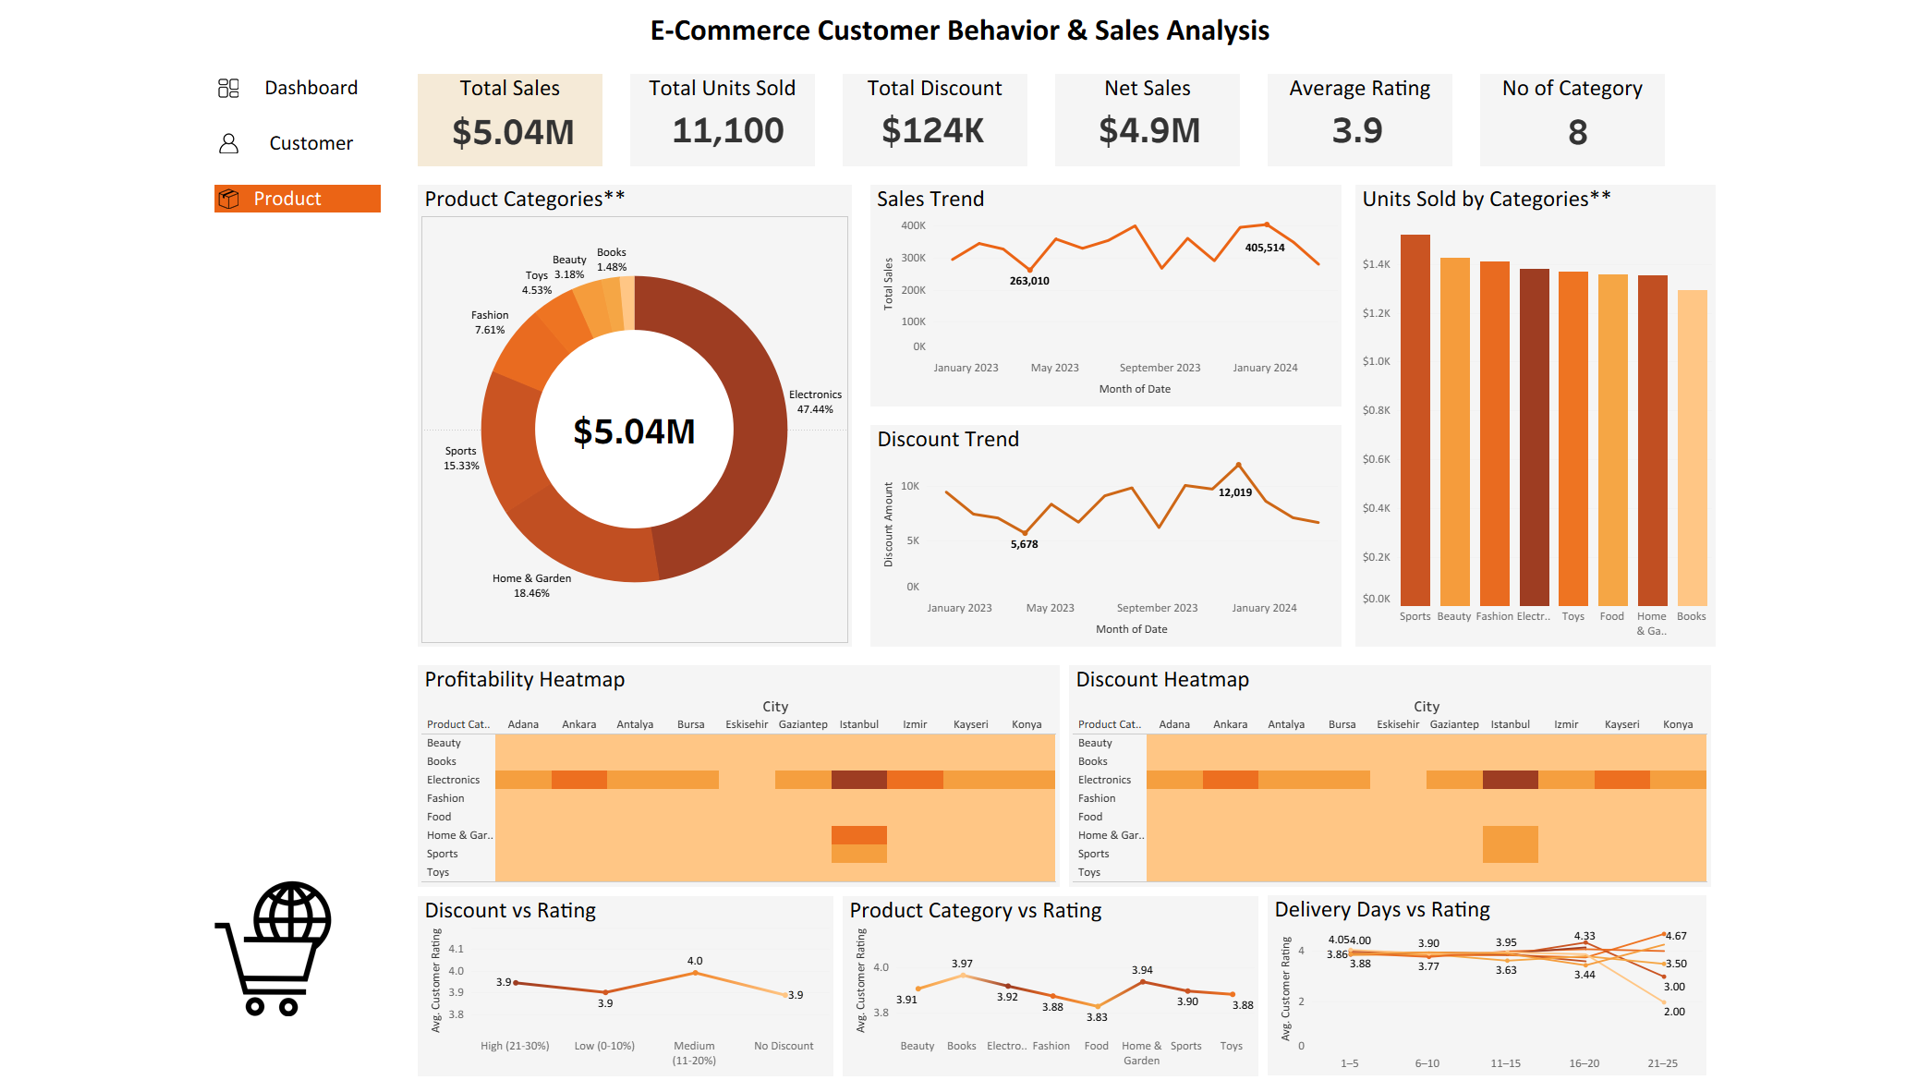

The page's visual inventory and layout, read from the dashboard file:
{"tool":"tableau","page":{"name":"Product","canvas":[1654,1169],"ordinal":2},"visuals":[{"type":"title","box":[8,8,1638,49]},{"type":"image","param":"Image/1.png","box":[20,80,30,30]},{"type":"dashboard-object","box":[50,80,150,30]},{"type":"text","box":[240,80,200,30]},{"type":"text","box":[470,80,200,30]},{"type":"text","box":[700,80,200,30]},{"type":"text","box":[930,80,200,30]},{"type":"text","box":[1160,80,200,30]},{"type":"text","box":[1390,80,200,30]},{"type":"worksheet","title":"Total Sales","mark":"Automatic","box":[240,110,200,62]},{"type":"worksheet","title":"Total Units Sold","mark":"Automatic","box":[470,110,200,58]},{"type":"worksheet","title":"Total Discount","mark":"Automatic","box":[700,110,200,58]},{"type":"worksheet","title":"Net Sales","mark":"Automatic","box":[930,110,200,58]},{"type":"worksheet","title":"Average Rating","mark":"Automatic","box":[1160,110,200,58]},{"type":"worksheet","title":"No of Categories","mark":"Automatic","box":[1390,110,200,62]},{"type":"image","param":"Image/3.png","box":[20,140,30,30]},{"type":"dashboard-object","box":[50,140,150,30]},{"type":"image","param":"Image/2.png","box":[20,200,30,30]},{"type":"text","box":[50,200,120,30]},{"type":"text","box":[240,200,470,30]},{"type":"text","box":[730,200,510,30]},{"type":"text","box":[1255,200,390,30]},{"type":"worksheet","title":"Top Categories","mark":"Pie","rows":["Calculation_1930636867859955715","Calculation_1930636867859955715"],"box":[240,230,470,470]},{"type":"worksheet","title":"Sales Trend","mark":"Automatic","rows":["Calculation_1930636867845853185"],"cols":["Date"],"box":[730,230,510,210]},{"type":"worksheet","title":"Units Sold by Categories","mark":"Automatic","rows":["Quantity"],"cols":["Product_Category"],"box":[1255,230,390,470]},{"type":"text","box":[730,460,510,30]},{"type":"worksheet","title":"Discount Trend","mark":"Automatic","rows":["Discount_Amount"],"cols":["Date"],"box":[730,490,510,210]},{"type":"text","box":[240,720,695,30]},{"type":"text","box":[945,720,695,30]},{"type":"worksheet","title":"Profitability Heatmap","mark":"Automatic","rows":["Product_Category"],"cols":["City"],"box":[240,750,695,210]},{"type":"worksheet","title":"Discount Heatmap","mark":"Automatic","rows":["Product_Category"],"cols":["City"],"box":[945,750,695,209]},{"type":"image","param":"Image/4.png","box":[20,950,150,150]},{"type":"text","box":[1160,969,475,30]},{"type":"text","box":[240,970,450,30]},{"type":"text","box":[700,970,450,30]},{"type":"worksheet","title":"Customer Ratings vs Delivery Time","mark":"Line","rows":["Customer_Rating"],"cols":["Calculation_649362786521202688"],"box":[1160,999,475,165]},{"type":"worksheet","title":"Discount vs Customer Rating","mark":"Line","rows":["Customer_Rating"],"cols":["Calculation_789537312201973762"],"box":[240,1000,450,165]},{"type":"worksheet","title":"Product Category vs Customer Rating","mark":"Line","rows":["Customer_Rating"],"cols":["Product_Category"],"box":[700,1000,450,165]}]}

Visuals, with their boxes on the page's 1654x1169 design canvas (x1, y1, x2, y2). These are canvas units, not pixel positions in the 1919x1079 screenshot, which may show the page scaled, cropped or inside an application window:
title: bbox(8, 8, 1646, 57)
image: bbox(20, 80, 50, 110)
dashboard-object: bbox(50, 80, 200, 110)
text: bbox(240, 80, 440, 110)
text: bbox(470, 80, 670, 110)
text: bbox(700, 80, 900, 110)
text: bbox(930, 80, 1130, 110)
text: bbox(1160, 80, 1360, 110)
text: bbox(1390, 80, 1590, 110)
"Total Sales" worksheet: bbox(240, 110, 440, 172)
"Total Units Sold" worksheet: bbox(470, 110, 670, 168)
"Total Discount" worksheet: bbox(700, 110, 900, 168)
"Net Sales" worksheet: bbox(930, 110, 1130, 168)
"Average Rating" worksheet: bbox(1160, 110, 1360, 168)
"No of Categories" worksheet: bbox(1390, 110, 1590, 172)
image: bbox(20, 140, 50, 170)
dashboard-object: bbox(50, 140, 200, 170)
image: bbox(20, 200, 50, 230)
text: bbox(50, 200, 170, 230)
text: bbox(240, 200, 710, 230)
text: bbox(730, 200, 1240, 230)
text: bbox(1255, 200, 1645, 230)
"Top Categories" worksheet (Pie marks): bbox(240, 230, 710, 700)
"Sales Trend" worksheet: bbox(730, 230, 1240, 440)
"Units Sold by Categories" worksheet: bbox(1255, 230, 1645, 700)
text: bbox(730, 460, 1240, 490)
"Discount Trend" worksheet: bbox(730, 490, 1240, 700)
text: bbox(240, 720, 935, 750)
text: bbox(945, 720, 1640, 750)
"Profitability Heatmap" worksheet: bbox(240, 750, 935, 960)
"Discount Heatmap" worksheet: bbox(945, 750, 1640, 959)
image: bbox(20, 950, 170, 1100)
text: bbox(1160, 969, 1635, 999)
text: bbox(240, 970, 690, 1000)
text: bbox(700, 970, 1150, 1000)
"Customer Ratings vs Delivery Time" worksheet (Line marks): bbox(1160, 999, 1635, 1164)
"Discount vs Customer Rating" worksheet (Line marks): bbox(240, 1000, 690, 1165)
"Product Category vs Customer Rating" worksheet (Line marks): bbox(700, 1000, 1150, 1165)
